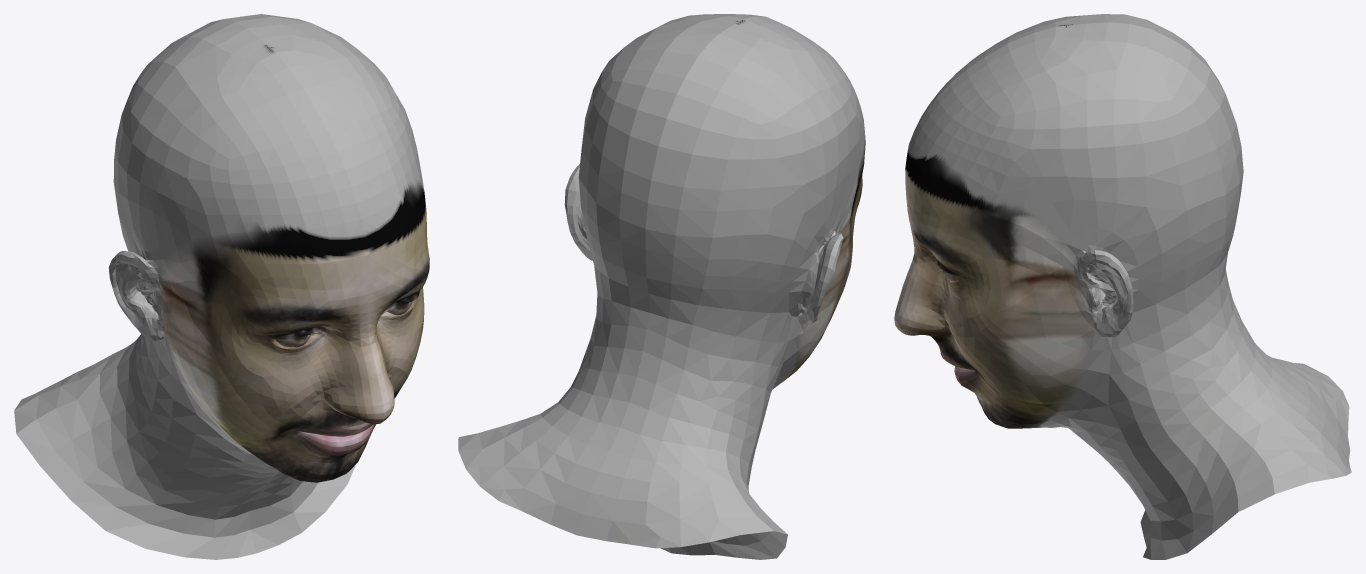
The model's file is ezgif-frame-069.obj.
3 renders of one model, left to right at view 1: azimuth 30°, elevation 25°; view 2: azimuth 150°, elevation 25°; view 3: azimuth 270°, elevation 25°, orthographic. The views are drawn at different scales.
Size of the model in its own units: 0.2099 by 0.3284 by 0.2658.
1 material, 1 textured.
